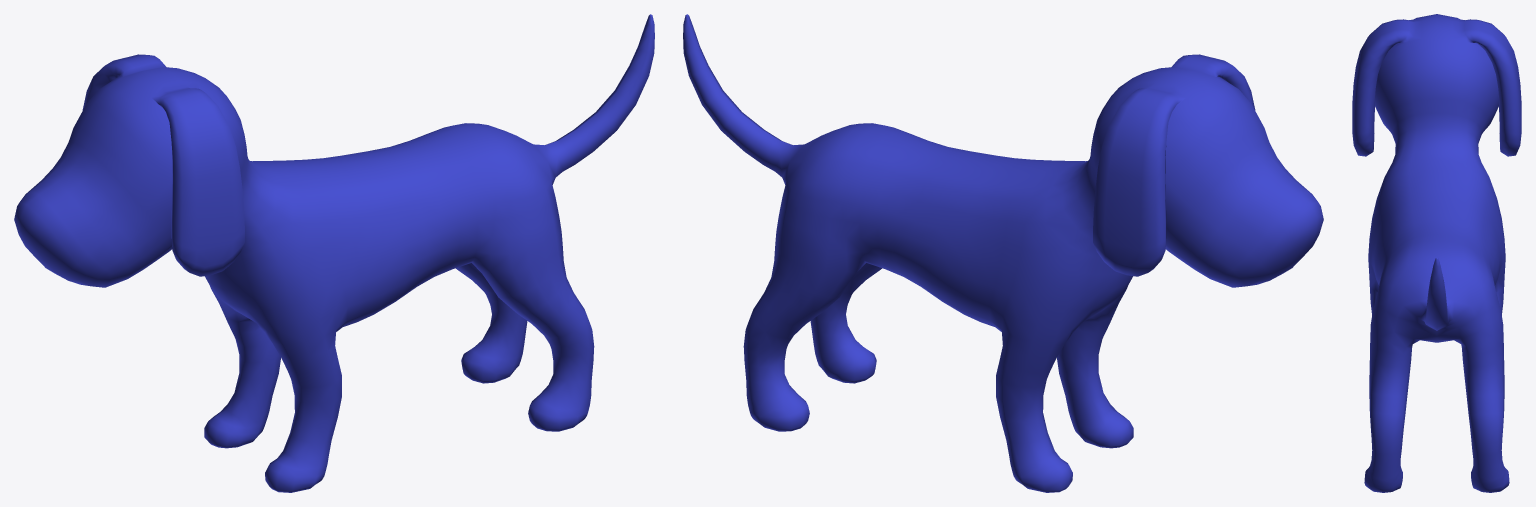
Rendered from Dog.fbx.
3 renders of one model, left to right at view 1: azimuth 30°, elevation 25°; view 2: azimuth 150°, elevation 25°; view 3: azimuth 270°, elevation 25°, orthographic. The views are drawn at different scales.
Visible parts, largest first — view 1: root; view 2: root; view 3: root.
Boxes of the visible parts, left/top/right/bottom form: root: left=14, top=14, right=654, bottom=492; root: left=683, top=14, right=1323, bottom=492; root: left=1352, top=14, right=1521, bottom=492.
Size of the model in its own units: 0.4427 by 0.2764 by 0.1302.
